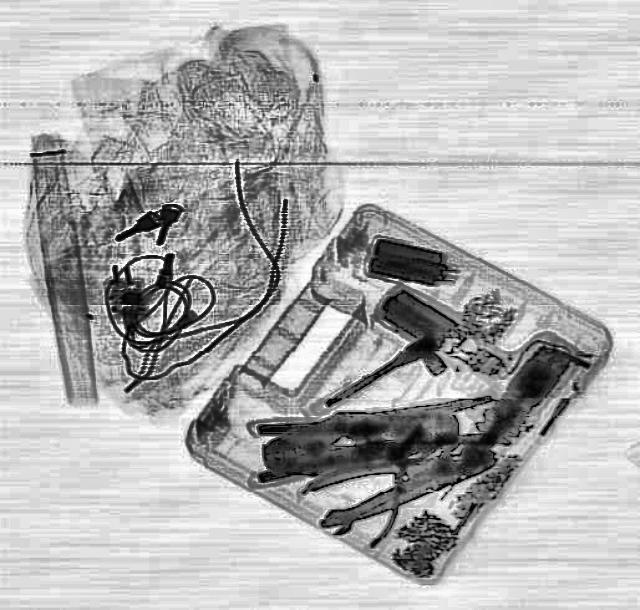Pliers: (293, 417, 502, 533), (244, 386, 464, 487), (257, 403, 431, 481)
Wrench: (316, 478, 412, 536)
